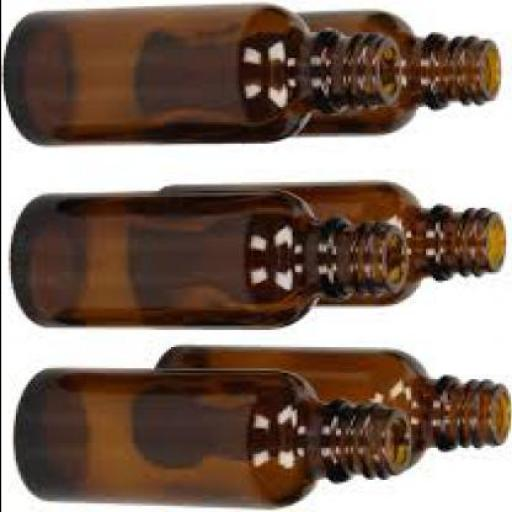glass: (2, 6, 403, 144), (14, 373, 414, 511), (12, 194, 413, 330), (155, 348, 511, 474), (160, 186, 507, 308), (288, 16, 502, 138)
